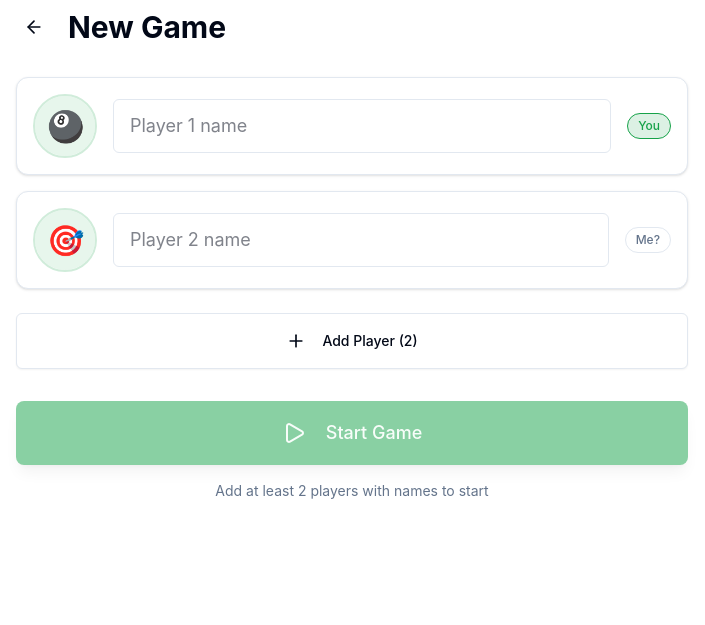
Test: NewGamePage › should explain a refused start next to the form, not in an alert
The width and height of the screenshot is (705, 625).
Type "Anna" into the field with placeholder "Player 1 name".
click(362, 126); type("Anna")  # box [113, 99, 611, 153]
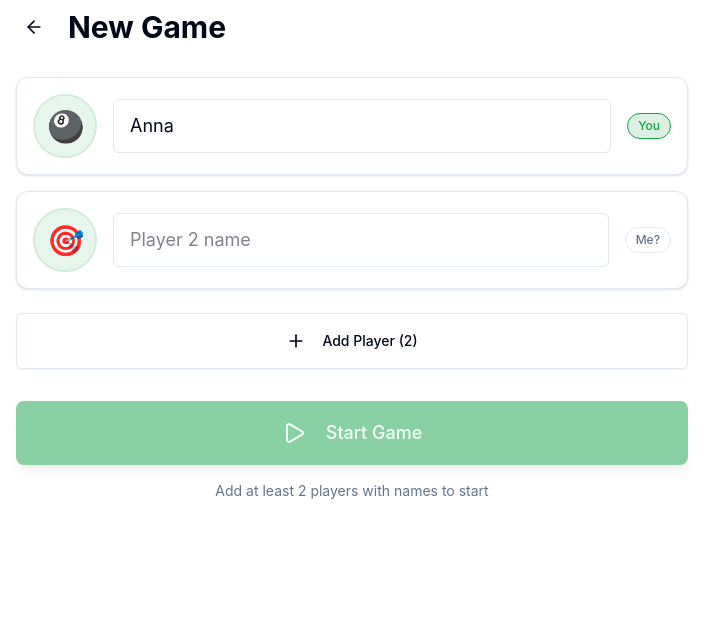
Type "anna" into the field with placeholder "Player 2 name".
click(361, 240); type("anna")  # box [113, 213, 609, 267]
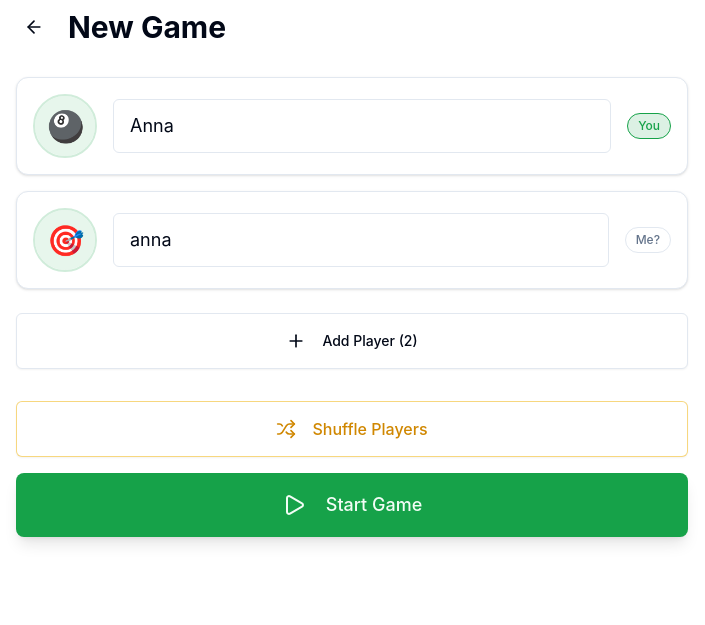
Click the button "Start Game".
click(352, 505)  # box [16, 473, 688, 537]
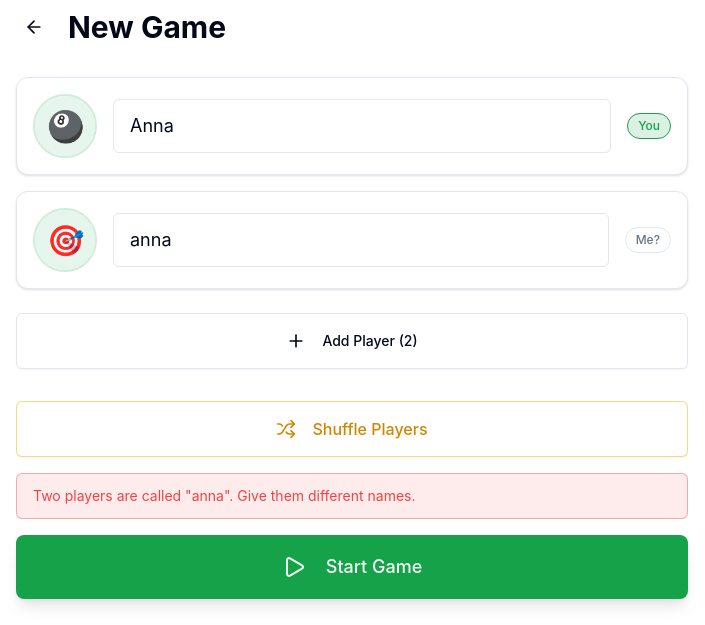
Check: the message shows "Two players are called \"anna\"", box [33, 487, 416, 504]
